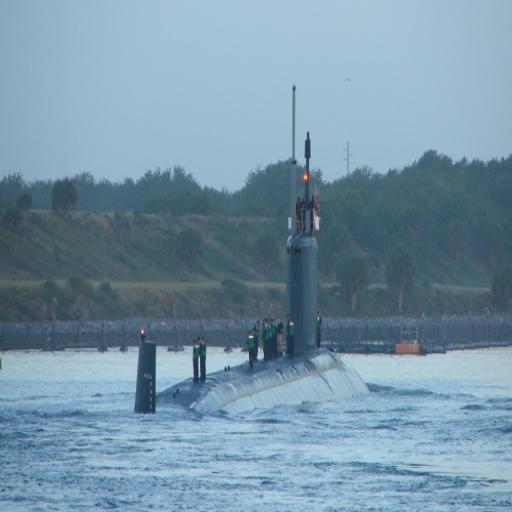submarine: (125, 81, 367, 421)
